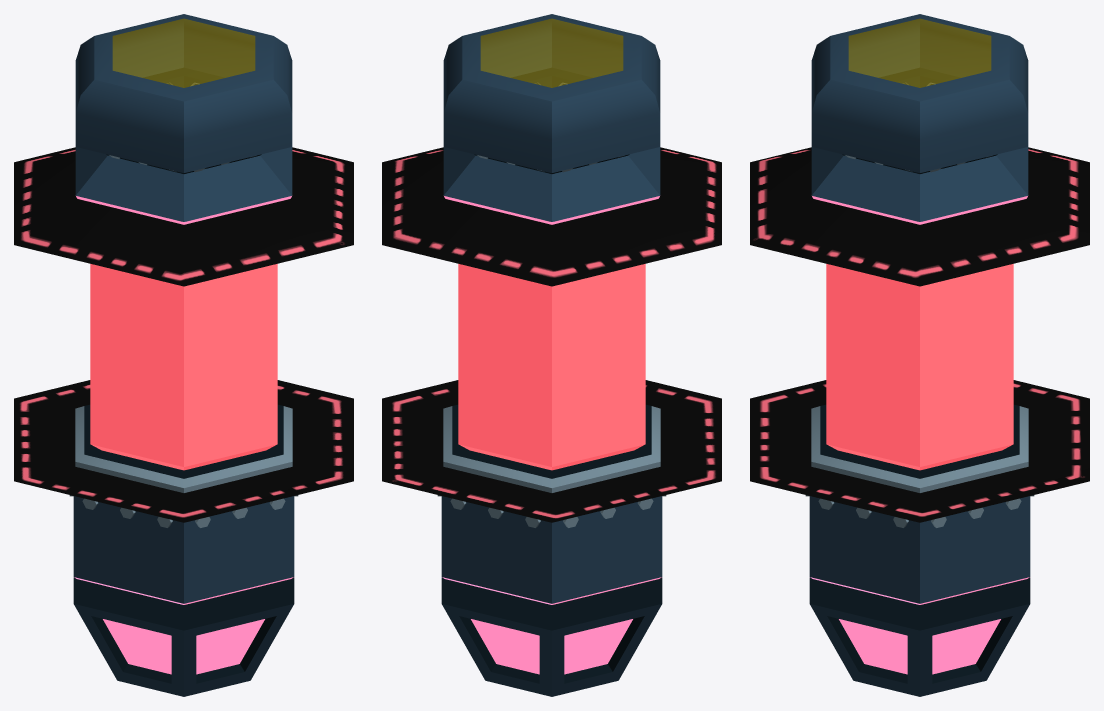
File: Mesh_fish_tank_01.fbx
3 renders of one model, left to right at view 1: azimuth 30°, elevation 25°; view 2: azimuth 150°, elevation 25°; view 3: azimuth 270°, elevation 25°, orthographic.
Visible parts, largest first — view 1: Mesh_fish_tank_01; view 2: Mesh_fish_tank_01; view 3: Mesh_fish_tank_01.
Boxes of the visible parts, box(x1,y1,x2,y2) form: Mesh_fish_tank_01: box(14, 14, 353, 696); Mesh_fish_tank_01: box(382, 14, 721, 696); Mesh_fish_tank_01: box(750, 14, 1089, 696).
Bounding box in the file's own units: 307 × 529 × 266.
8 materials, 1 textured.
